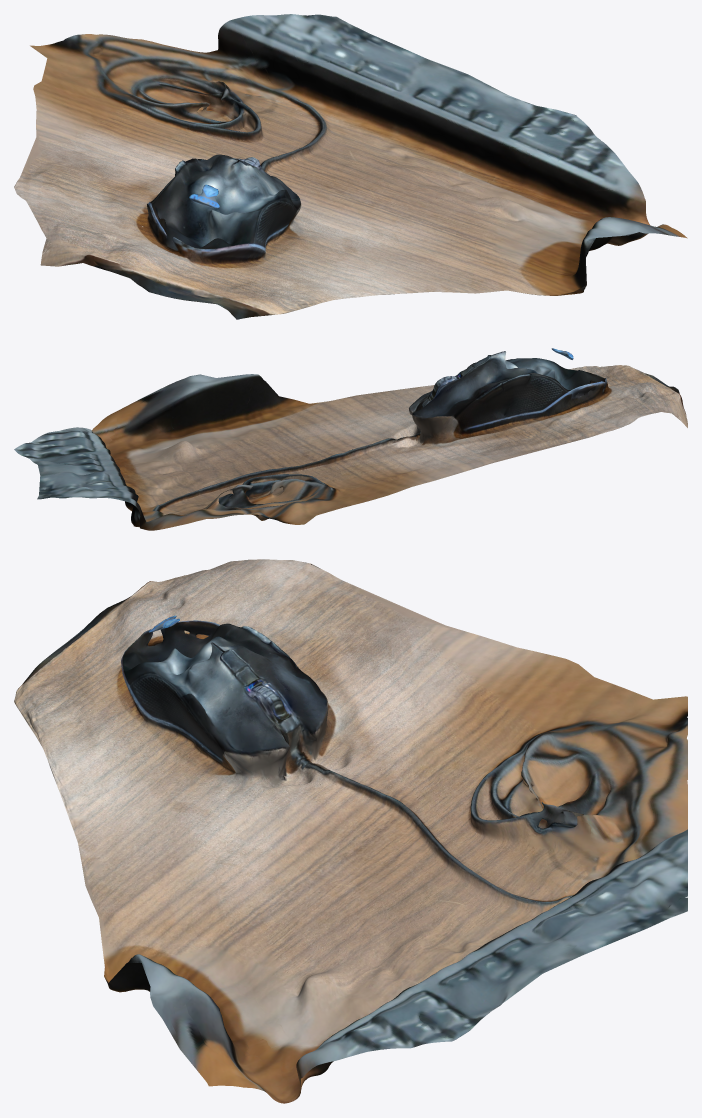
3 renders of one model, top to bottom at view 1: azimuth 30°, elevation 25°; view 2: azimuth 150°, elevation 25°; view 3: azimuth 270°, elevation 25°, orthographic. The views are drawn at different scales.
Parts seen in each view (by area): view 1: 3DModel; view 2: 3DModel; view 3: 3DModel.
Boxes of the visible parts, bbox=[...] form: 3DModel: bbox=[14, 14, 687, 319]; 3DModel: bbox=[14, 348, 687, 530]; 3DModel: bbox=[14, 559, 687, 1103].
Bounding box in the file's own units: 1.77 × 0.516 × 1.44.
Materials: 1 (1 with a texture image).
